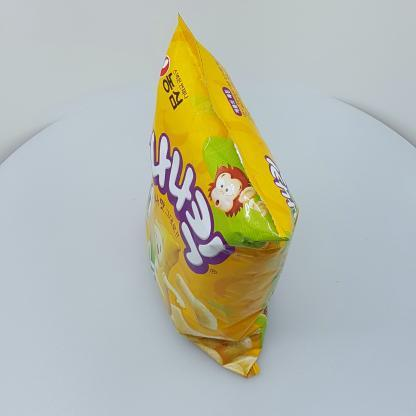Plastic Packaging: (139, 9, 305, 384)
